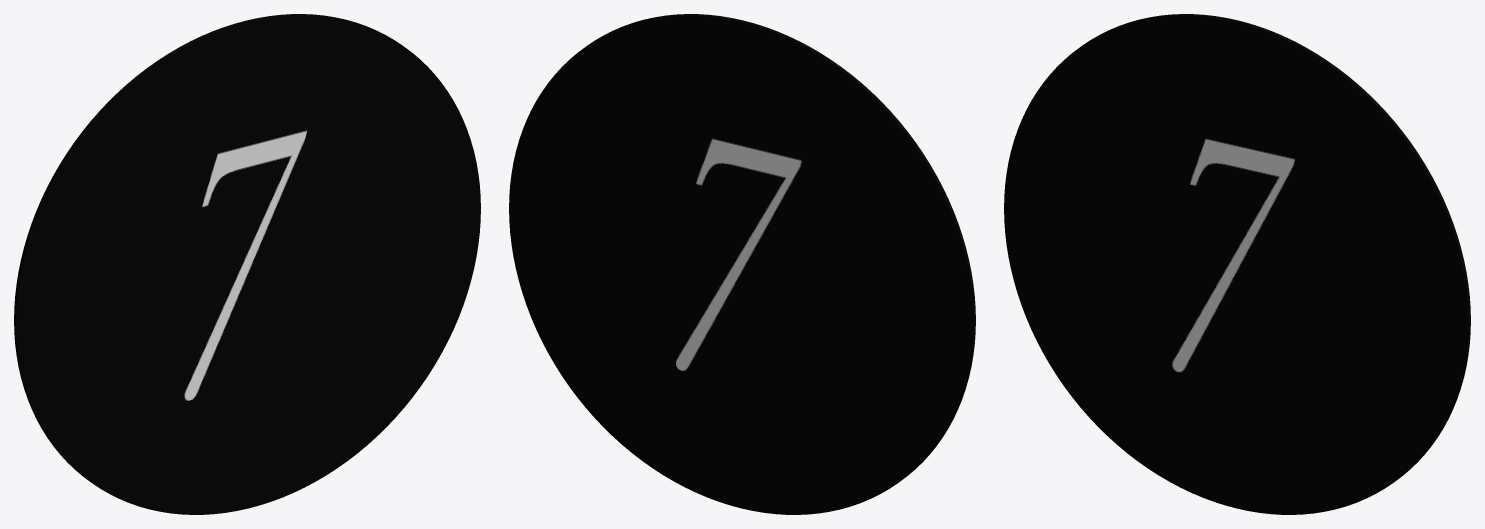
File: number7.glb
The picture shows the model from 3 angles, left to right: view 1: azimuth 30°, elevation 25°; view 2: azimuth 150°, elevation 25°; view 3: azimuth 330°, elevation 25°; orthographic projection.
Parts seen in each view (by area): view 1: Cylinder; view 2: Cylinder; view 3: Cylinder.
Part boxes in pixels (left/top/right/bottom): Cylinder: left=14, top=14, right=480, bottom=514; Cylinder: left=509, top=14, right=975, bottom=514; Cylinder: left=1004, top=14, right=1470, bottom=514.
Size of the model in its own units: 5 by 5 by 0.0392.
Materials: 2 (1 with a texture image).
